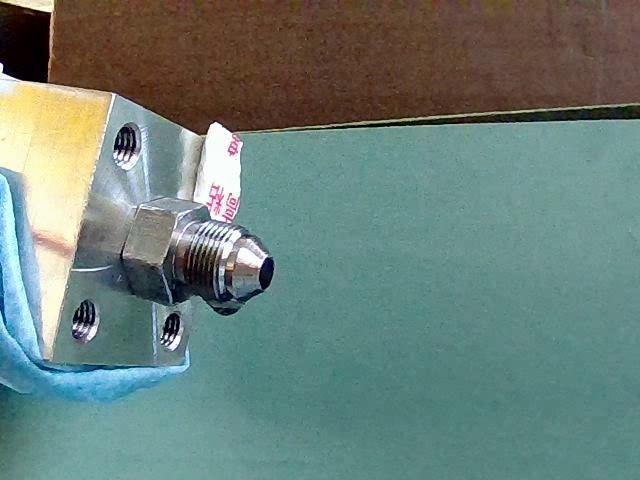water drop: (203, 298, 247, 316)
